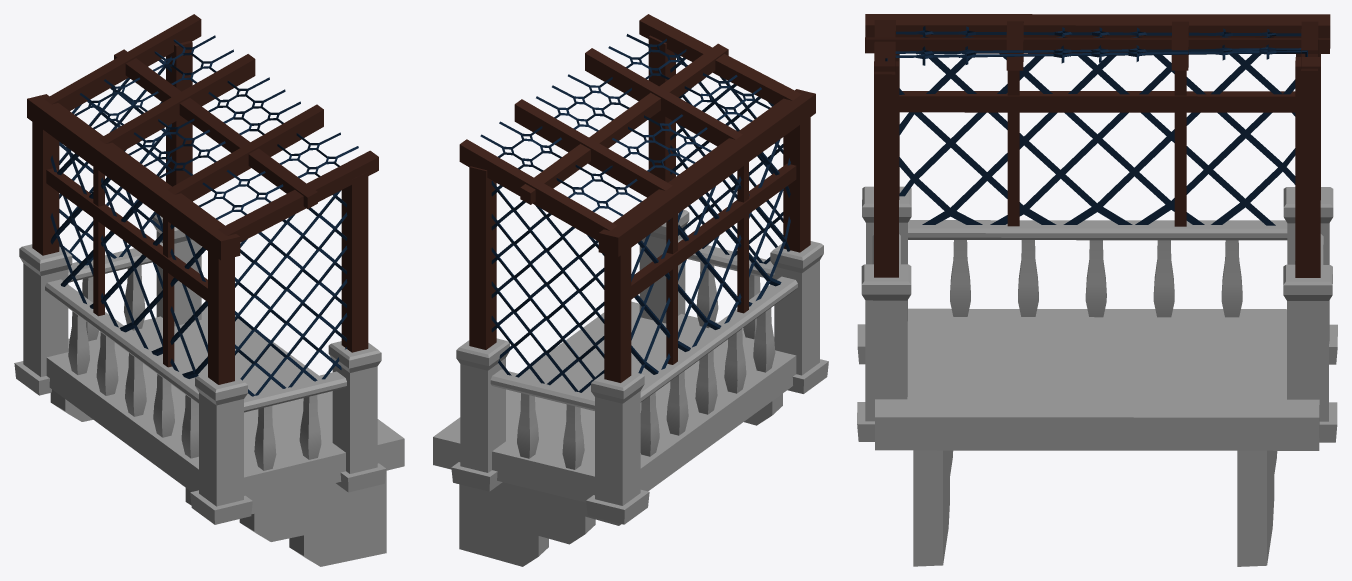
The model's file is balcony_1.FBX.
The picture shows the model from 3 angles, left to right: view 1: azimuth 30°, elevation 25°; view 2: azimuth 150°, elevation 25°; view 3: azimuth 270°, elevation 25°; orthographic projection. The views are drawn at different scales.
Visible parts, largest first — view 1: balcony_1; view 2: balcony_1; view 3: balcony_1.
Boxes of the visible parts, box(x1,y1,x2,y2) form: balcony_1: box(14, 14, 404, 566); balcony_1: box(433, 14, 828, 566); balcony_1: box(857, 14, 1337, 566).
Bounding box in the file's own units: 209 × 425 × 368.
